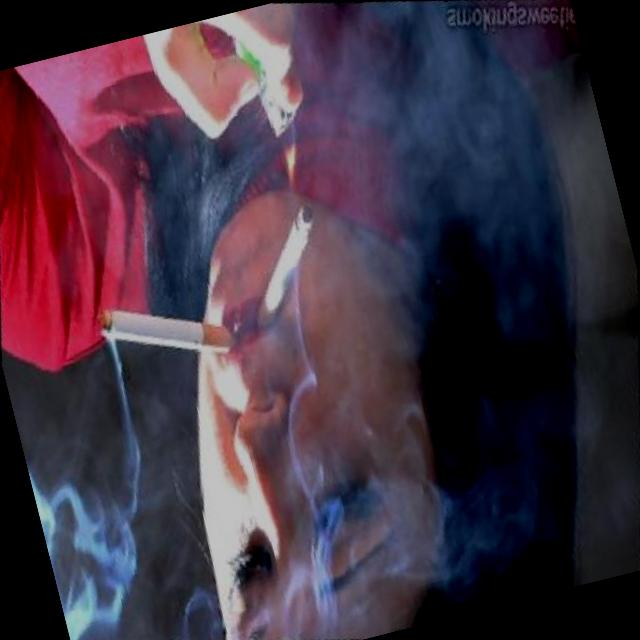smoke: (86, 270, 250, 386), (226, 185, 345, 342)
